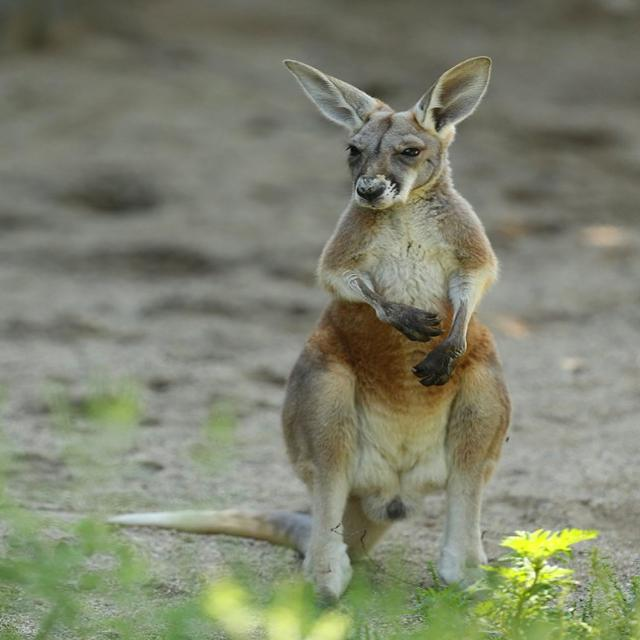kangaroo: (119, 57, 511, 598)
